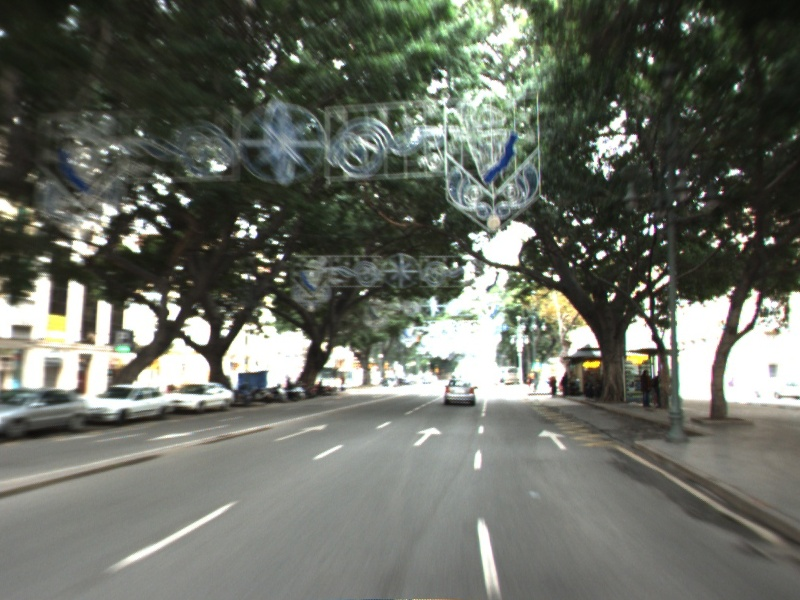STRAIGHT: (271, 422, 331, 443), (535, 427, 570, 452), (411, 425, 445, 448)
